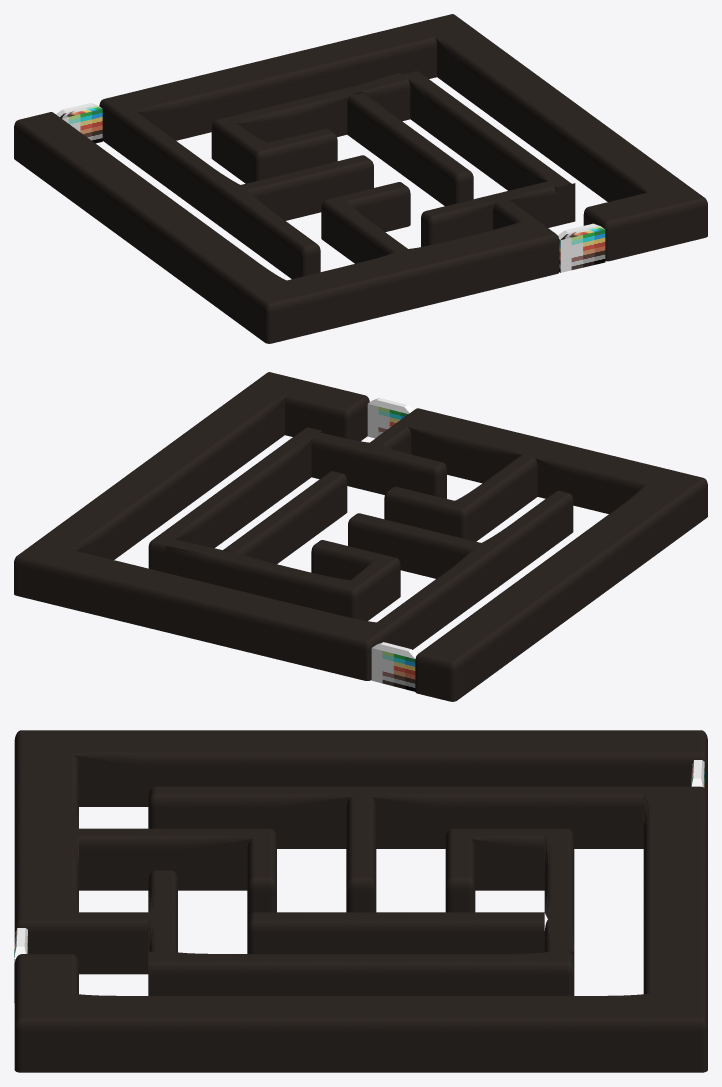
Rendered from maze1.obj.
3 renders of one model, top to bottom at view 1: azimuth 30°, elevation 25°; view 2: azimuth 150°, elevation 25°; view 3: azimuth 270°, elevation 25°, orthographic. The views are drawn at different scales.
Parts seen in each view (by area): view 1: Plane.005_Plane.006, Plane.001_Plane.002, Plane.002_Plane.003, Plane.006_Plane.007, Plane.003_Plane.004, Plane.017_Plane.019, Plane.013_Plane.014, Plane.014_Plane.015, Plane.004_Plane.005, Plane.009_Plane.010, Plane.007_Plane.008, Plane.011_Plane.012 (+6 smaller); view 2: Plane.005_Plane.006, Plane.002_Plane.003, Plane.001_Plane.002, Plane.006_Plane.007, Plane.003_Plane.004, Plane.017_Plane.019, Plane.014_Plane.015, Plane.009_Plane.010, Plane.013_Plane.014, Plane.004_Plane.005, Plane.011_Plane.012, Plane.007_Plane.008 (+6 smaller); view 3: Plane.001_Plane.002, Plane.005_Plane.006, Plane.003_Plane.004, Plane.017_Plane.019, Plane.002_Plane.003, Plane.006_Plane.007, Plane.013_Plane.014, Plane.011_Plane.012, Plane.015_Plane.016, Plane.010_Plane.011, Plane.014_Plane.015, Plane.004_Plane.005 (+4 smaller).
Part boxes in pixels (x1,y1,x2,y2): Plane.005_Plane.006: [14, 112, 308, 343]; Plane.001_Plane.002: [416, 14, 707, 246]; Plane.002_Plane.003: [99, 23, 436, 153]; Plane.006_Plane.007: [287, 218, 559, 334]; Plane.003_Plane.004: [121, 112, 320, 278]; Plane.017_Plane.019: [402, 71, 575, 225]; Plane.013_Plane.014: [347, 92, 473, 206]; Plane.014_Plane.015: [211, 73, 410, 164]; Plane.004_Plane.005: [241, 155, 373, 220]; Plane.009_Plane.010: [421, 181, 556, 246]; Plane.007_Plane.008: [583, 192, 668, 261]; Plane.011_Plane.012: [321, 196, 407, 263]; Plane.005_Plane.006: [415, 469, 707, 701]; Plane.002_Plane.003: [53, 550, 392, 680]; Plane.001_Plane.002: [14, 372, 305, 604]; Plane.006_Plane.007: [395, 408, 665, 513]; Plane.003_Plane.004: [377, 490, 573, 649]; Plane.017_Plane.019: [148, 426, 322, 572]; Plane.014_Plane.015: [165, 539, 366, 620]; Plane.009_Plane.010: [311, 432, 446, 498]; Plane.013_Plane.014: [223, 471, 347, 564]; Plane.004_Plane.005: [348, 513, 480, 578]; Plane.011_Plane.012: [445, 455, 537, 541]; Plane.007_Plane.008: [285, 381, 369, 441]; Plane.001_Plane.002: [14, 993, 707, 1072]; Plane.005_Plane.006: [14, 730, 707, 806]; Plane.003_Plane.004: [148, 786, 643, 848]; Plane.017_Plane.019: [148, 951, 574, 995]; Plane.002_Plane.003: [643, 786, 707, 1001]; Plane.006_Plane.007: [14, 755, 78, 961]; Plane.013_Plane.014: [247, 912, 544, 954]; Plane.011_Plane.012: [79, 828, 276, 890]; Plane.015_Plane.016: [445, 828, 544, 890]; Plane.010_Plane.011: [79, 912, 148, 974]; Plane.014_Plane.015: [544, 828, 574, 951]; Plane.004_Plane.005: [346, 796, 376, 912].
Bounding box in the file's own units: 43.71 × 3.63 × 43.75.
3 materials, 3 textured.
